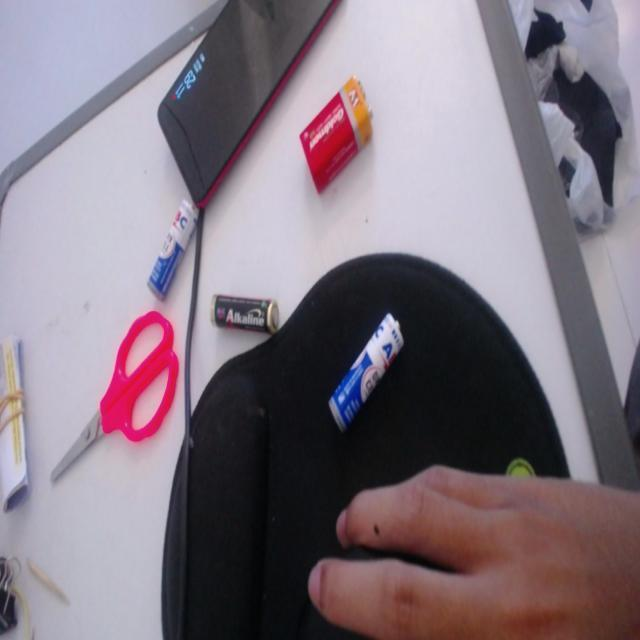Hazard: (296, 71, 375, 198), (326, 312, 404, 432), (144, 196, 200, 302), (208, 293, 282, 338)
